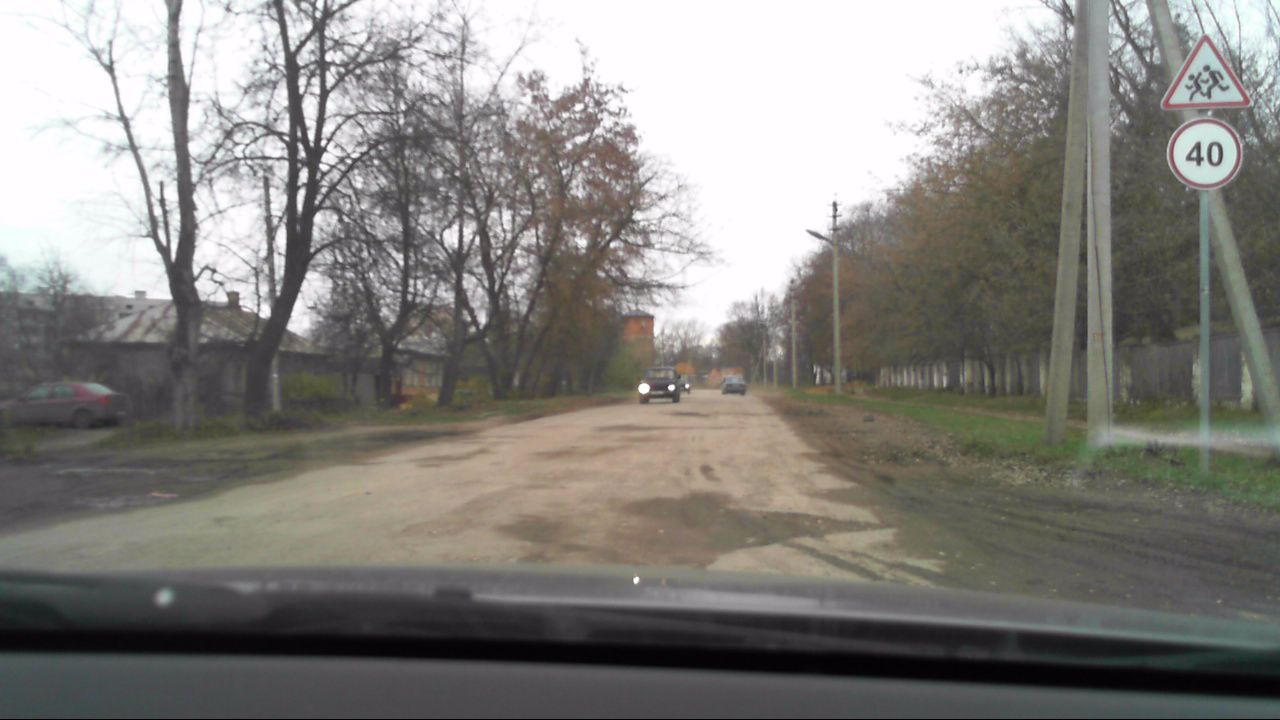speed_warning_40: (1164, 118, 1244, 192)
